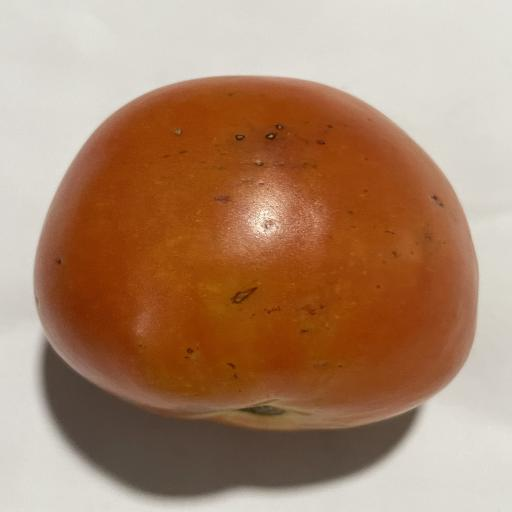ripe: (34, 76, 477, 430)
